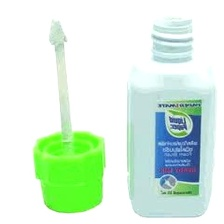correction_fluid: (125, 7, 219, 219)
